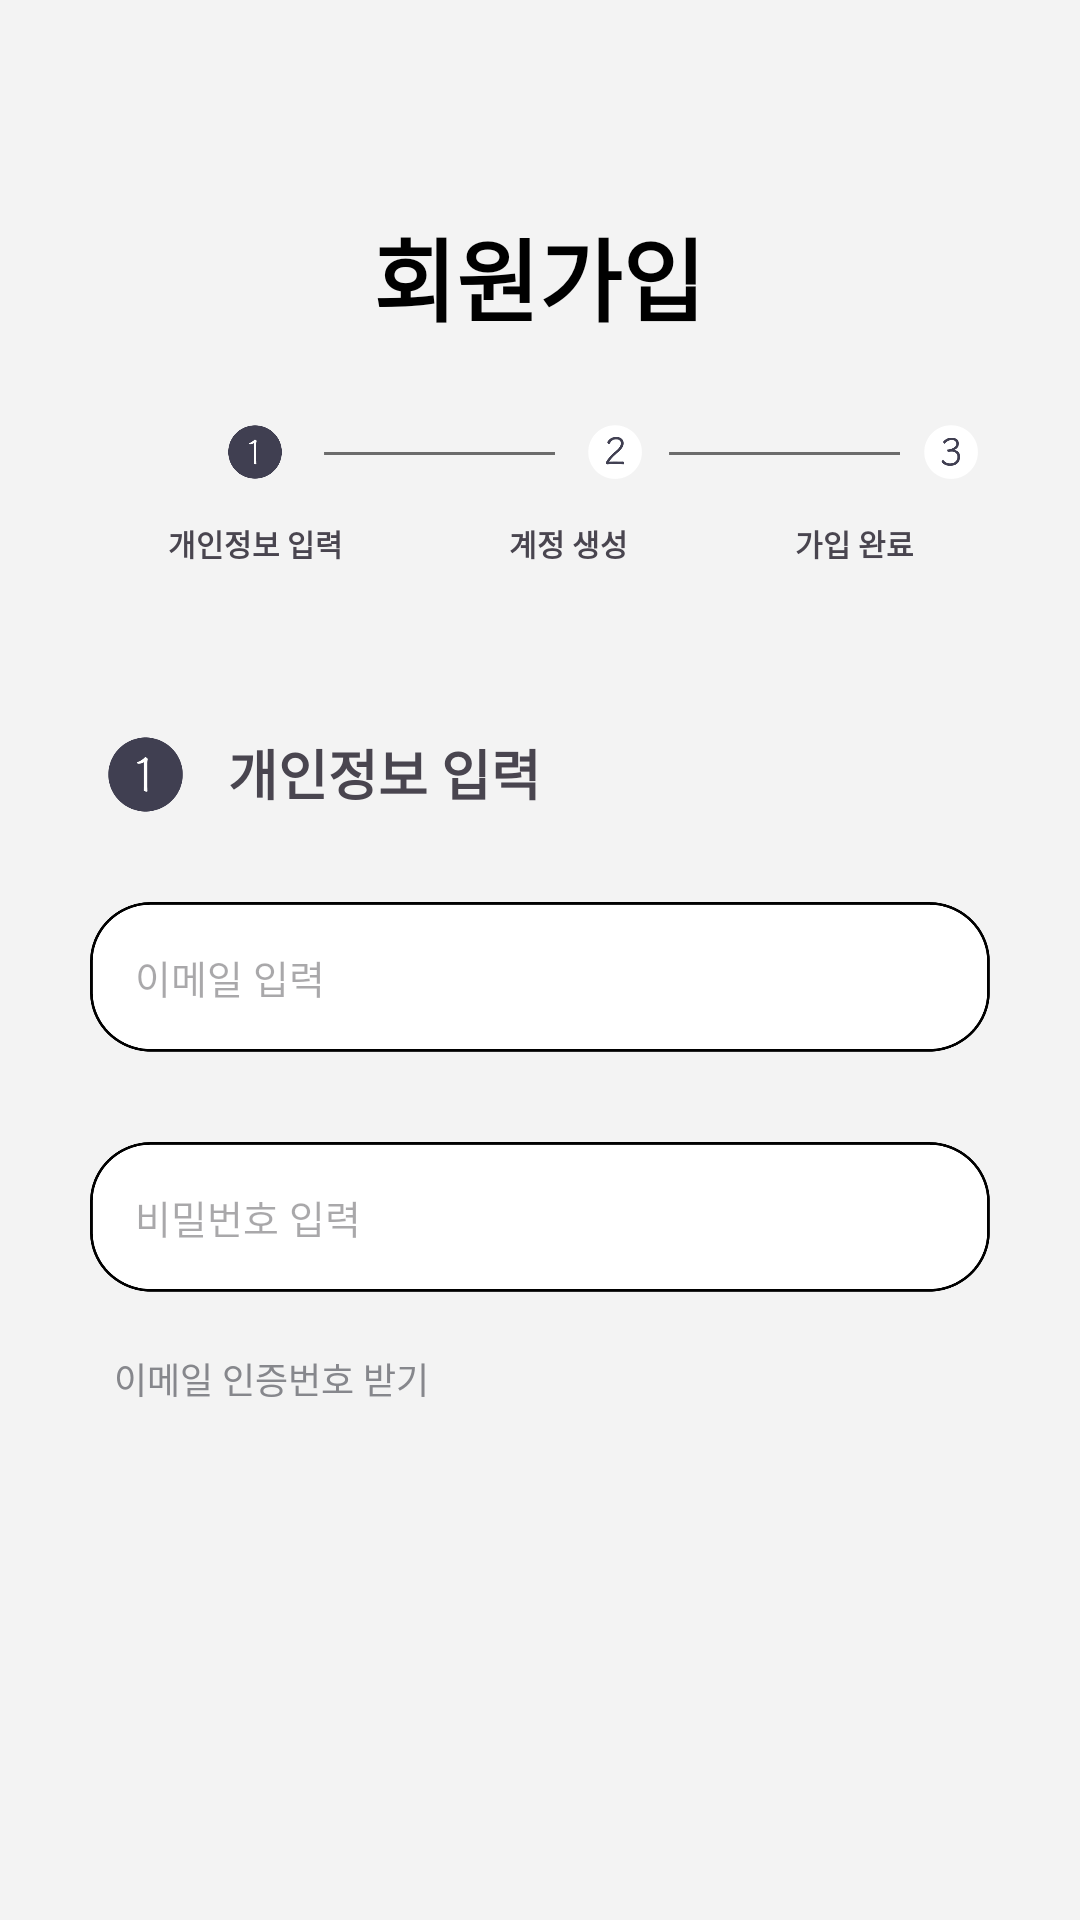

Where icons sit on this 1080×1920 app screen, as bbox=[x1, y1, x2, y2]:
step bcircle: bbox=[228, 425, 282, 479], bbox=[108, 737, 183, 812]
step wcircle: bbox=[588, 425, 642, 479], bbox=[924, 425, 978, 479]
